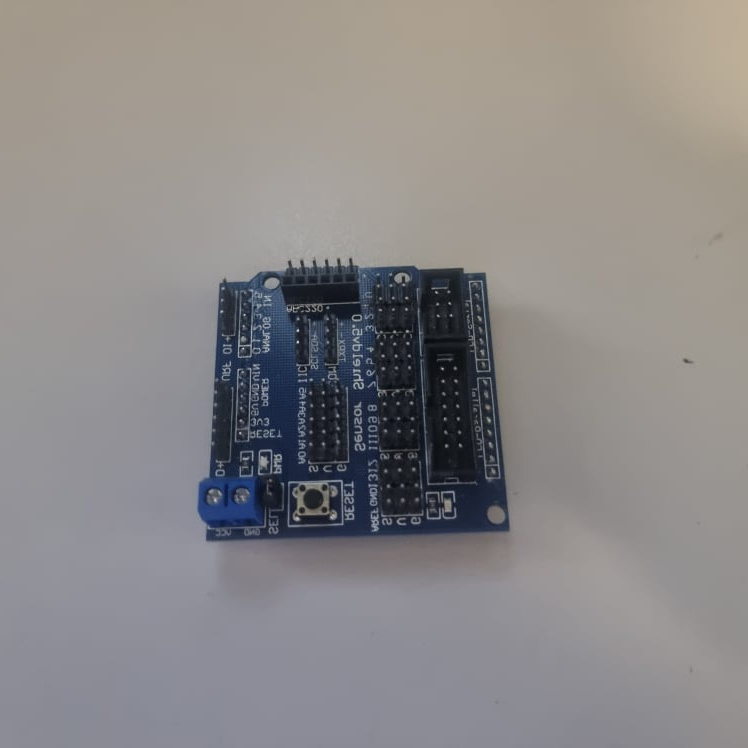5V EXPANSION: (196, 260, 509, 545)
